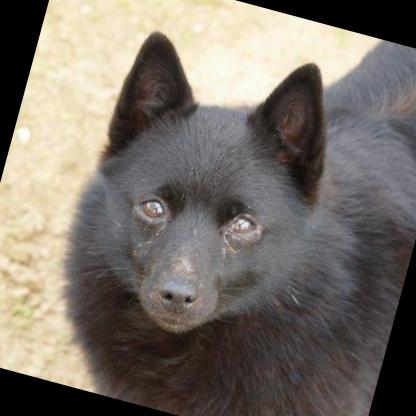schipperke: (25, 0, 416, 416)
